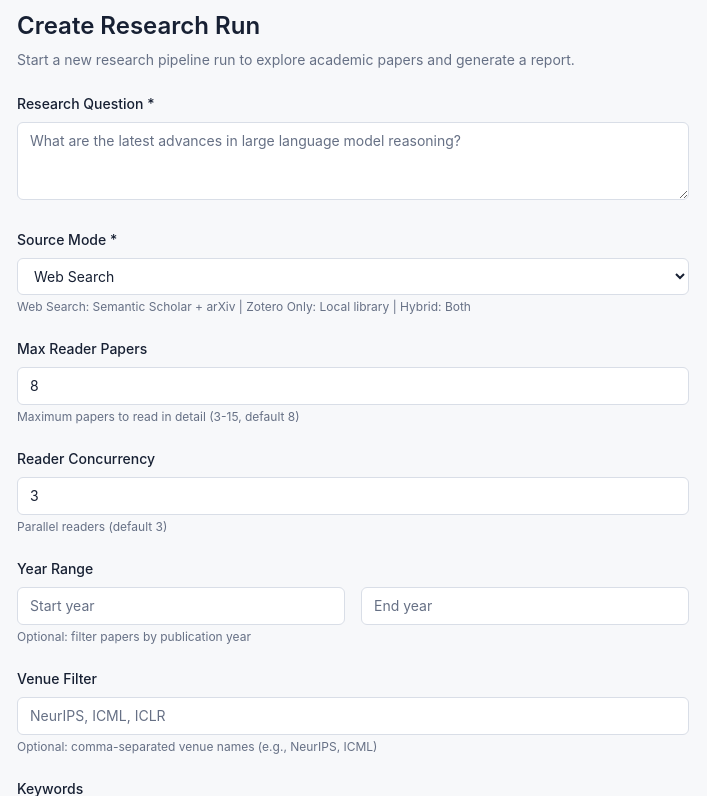
Scenario: NewRunPage › handles Zotero collection loading failure gracefully
// Switch to a mode that requires Zotero
Select "Zotero Only" in the dropdown labelled "Source Mode *" at (353, 276), box [17,258,689,295]
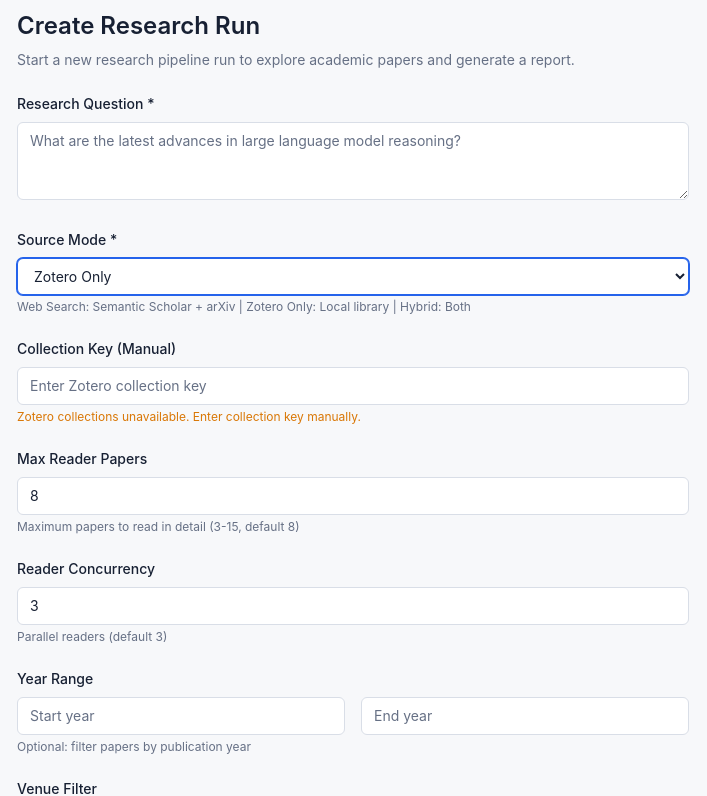
expect the field labelled "Collection Key (Manual)" is shown: met, box [17,367,689,405]
